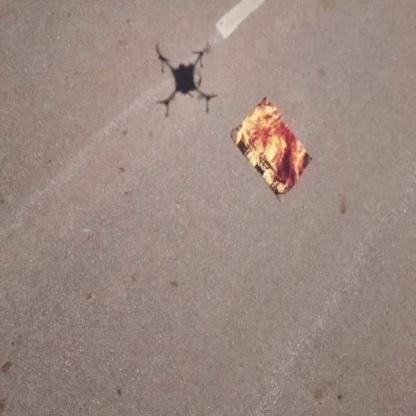fire-poster: (229, 95, 313, 200)
